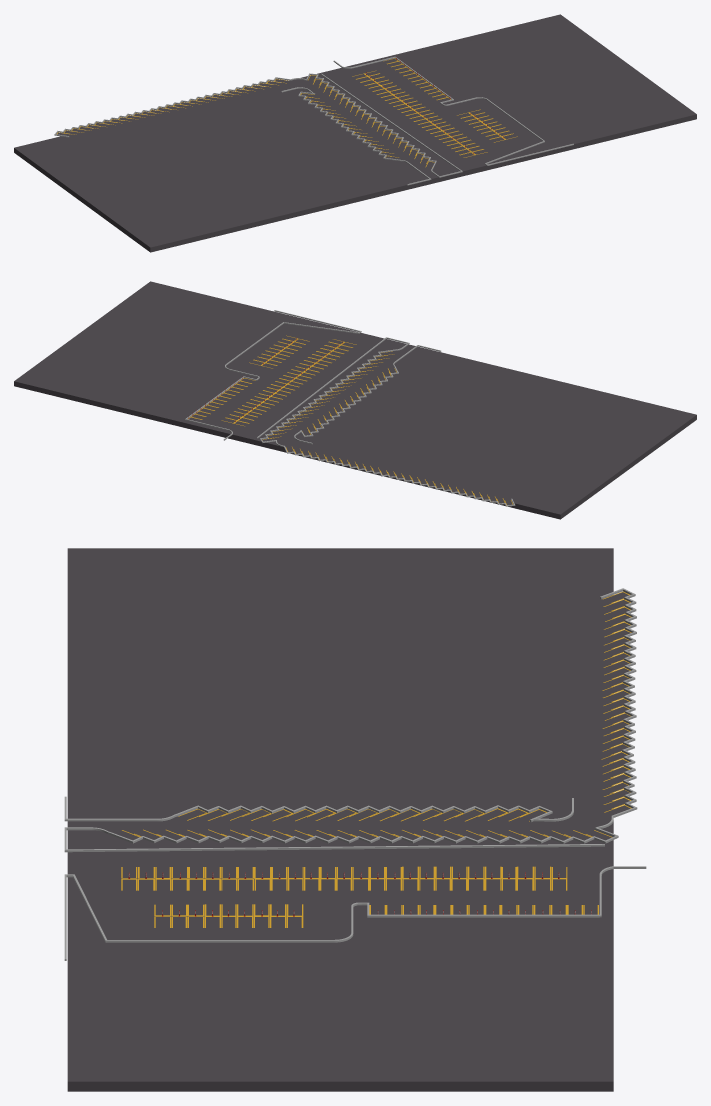
File: ydb.fbx
3 renders of one model, top to bottom at view 1: azimuth 30°, elevation 25°; view 2: azimuth 150°, elevation 25°; view 3: azimuth 270°, elevation 25°, orthographic. The views are drawn at different scales.
Visible parts, largest first — view 1: pCube1; view 2: pCube1; view 3: pCube1, pCube196, pCube176.
Boxes of the visible parts, x1,y1,x2,y2 form: pCube1: (14,14,696,252); pCube1: (14,281,696,519); pCube1: (67,548,613,1091); pCube196: (66,844,604,852); pCube176: (369,914,599,917).
Bounding box in the file's own units: 64.23 × 0.8911 × 29.61.
